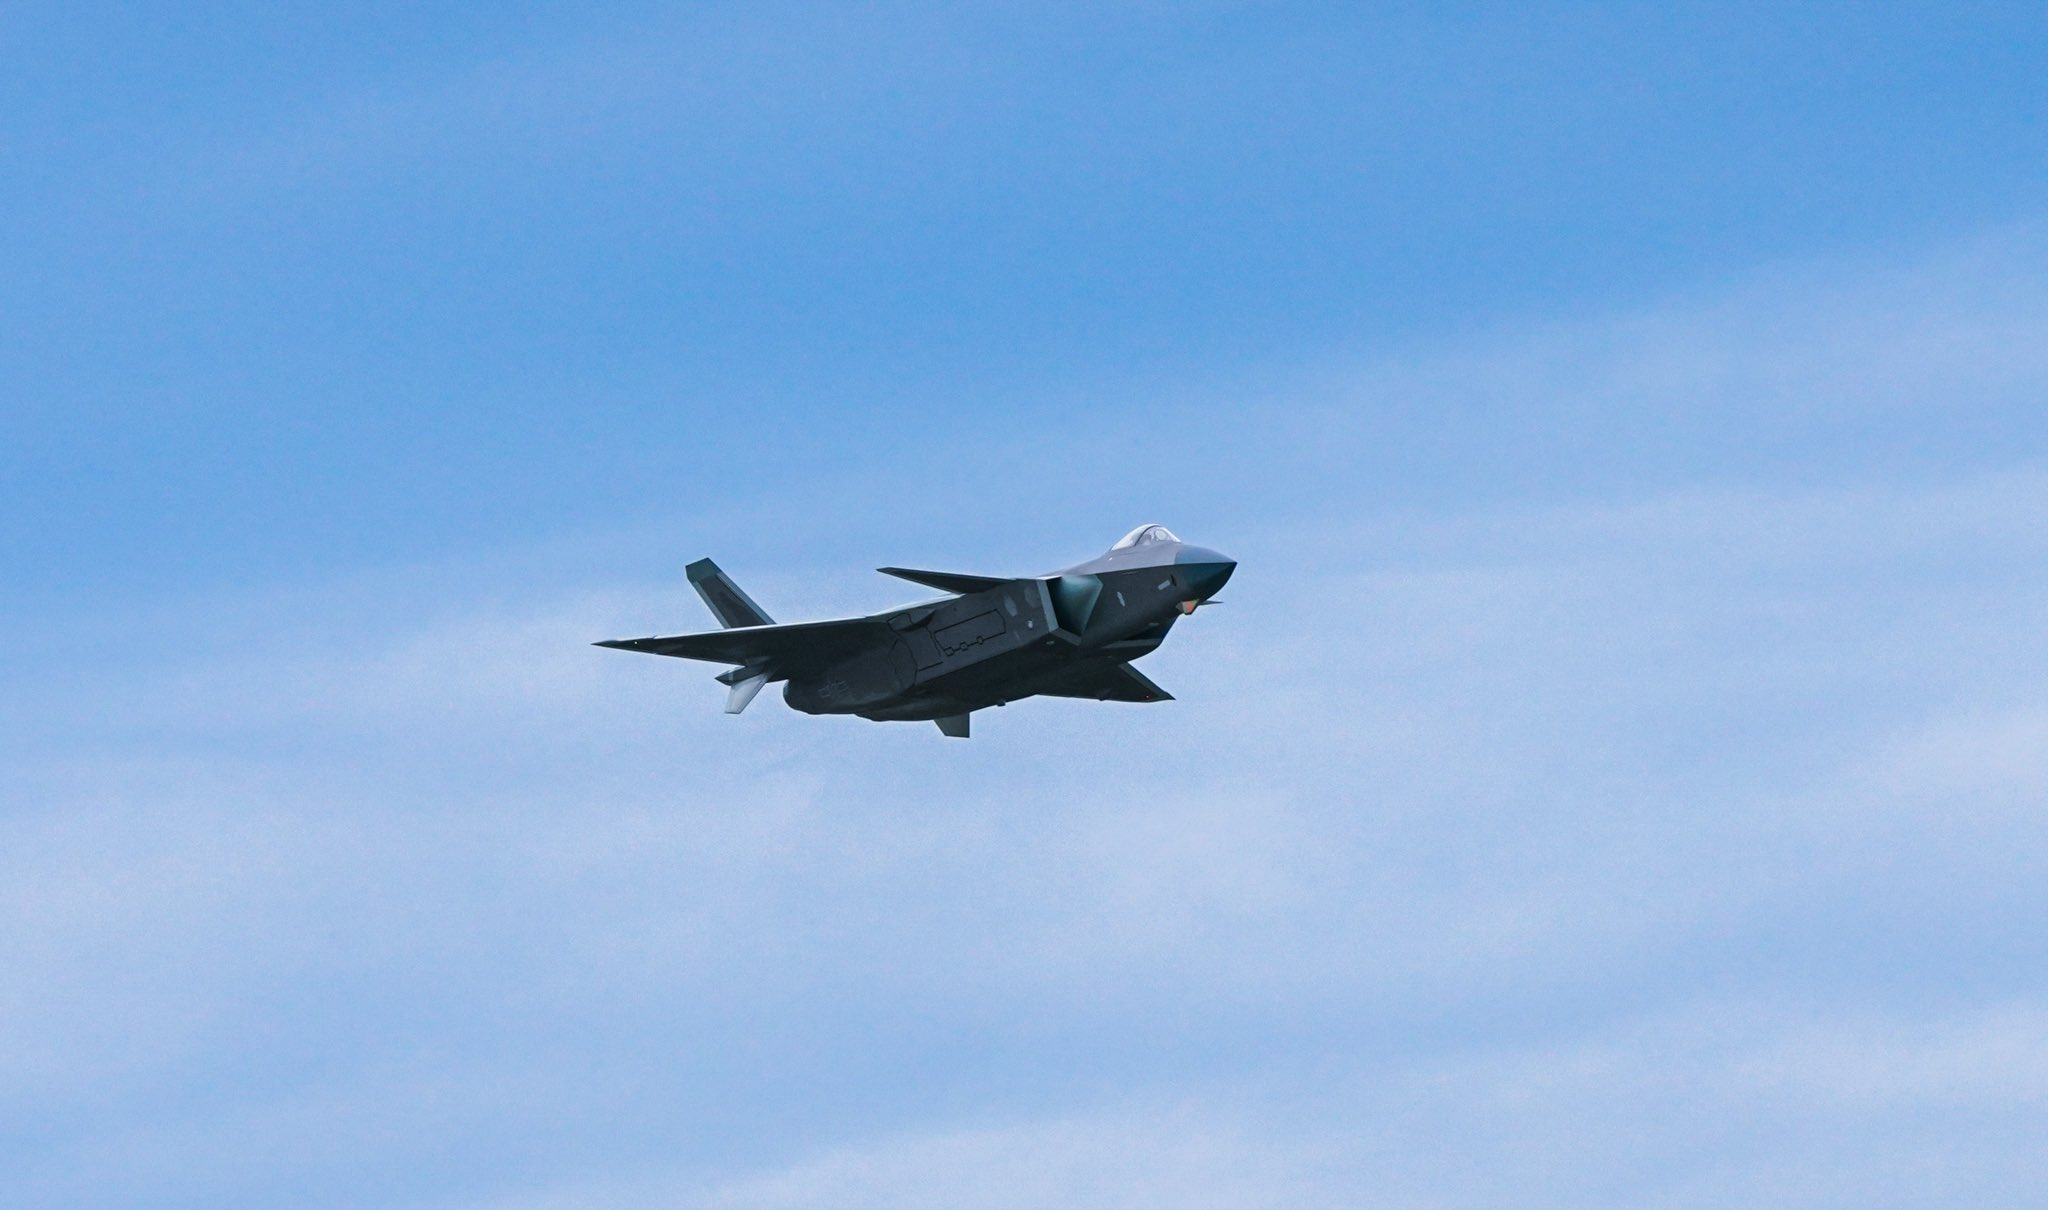J20: (589, 523, 1239, 738)
